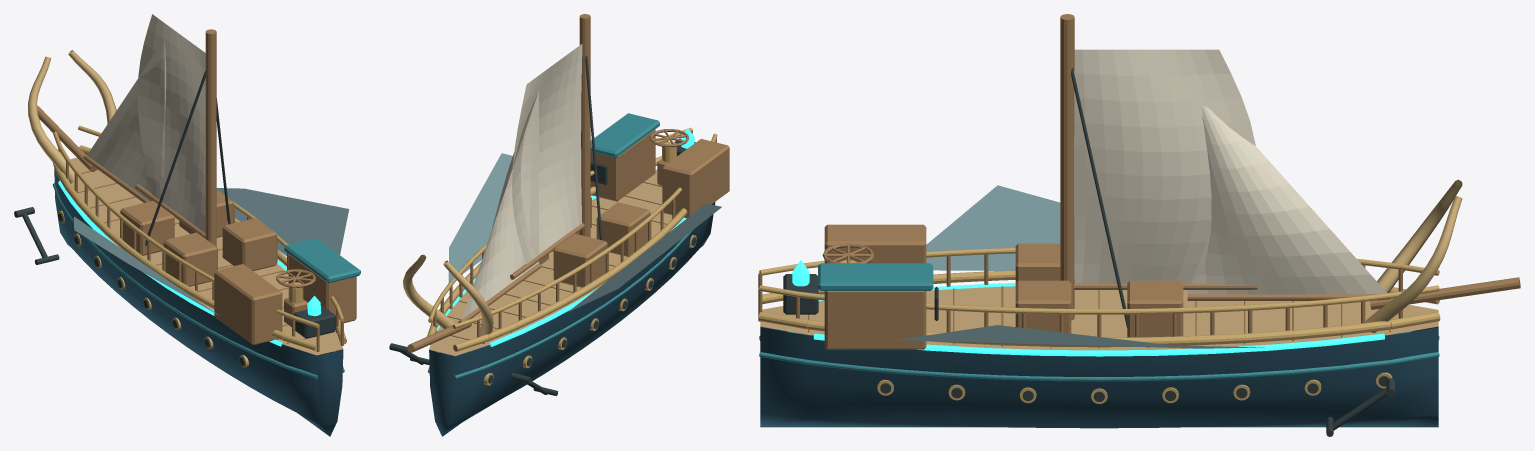
The model's file is ship_barque.glb.
3 renders of one model, left to right at view 1: azimuth 30°, elevation 25°; view 2: azimuth 150°, elevation 25°; view 3: azimuth 270°, elevation 25°, orthographic. The views are drawn at different scales.
Parts seen in each view (by area): view 1: ship_barque; view 2: ship_barque; view 3: ship_barque.
Part boxes in pixels (x1,y1,x2,y2): ship_barque: (14,14,360,436); ship_barque: (389,14,729,436); ship_barque: (758,14,1520,436).
Size of the model in its own units: 4.15 by 5.68 by 9.56.
